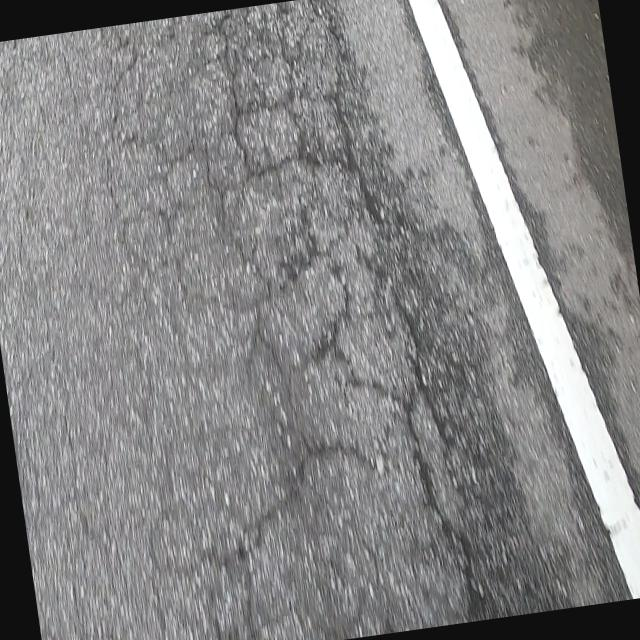Retak-Buaya: (109, 0, 486, 640)
